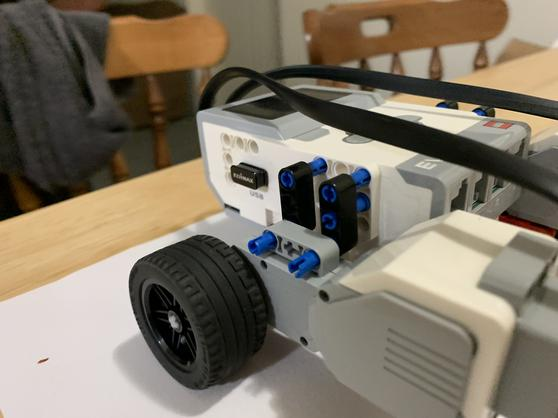robot: (123, 47, 558, 418)
